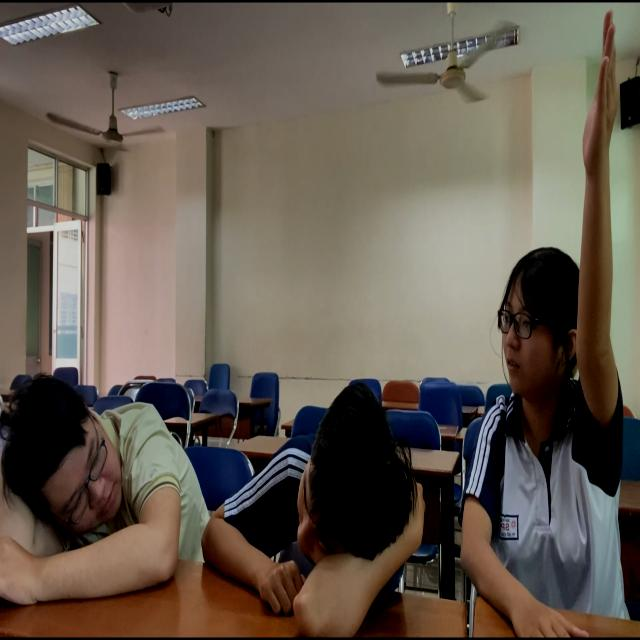raise_hand: (455, 3, 640, 640)
sleep: (1, 317, 209, 625), (209, 371, 438, 640)
